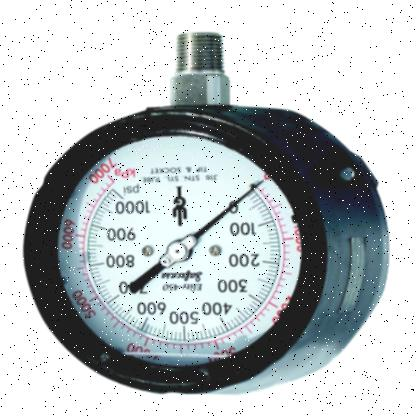needle: (192, 179, 265, 240)
